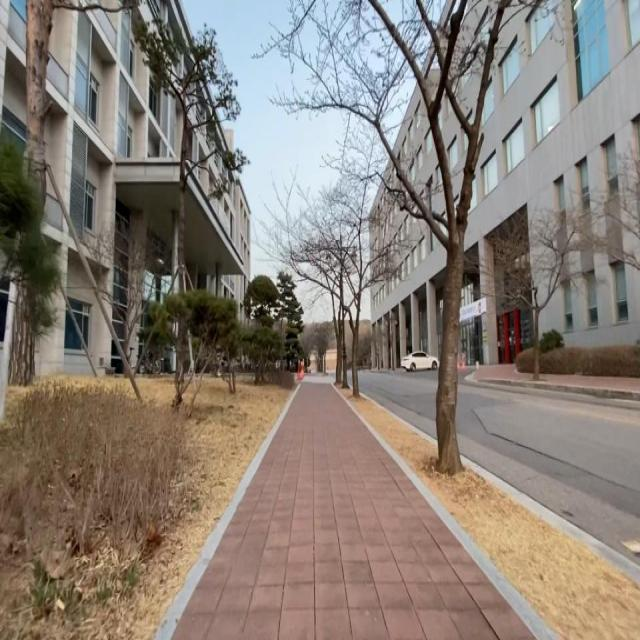sidewalk: (171, 384, 538, 640), (540, 375, 640, 392), (474, 364, 534, 383)
